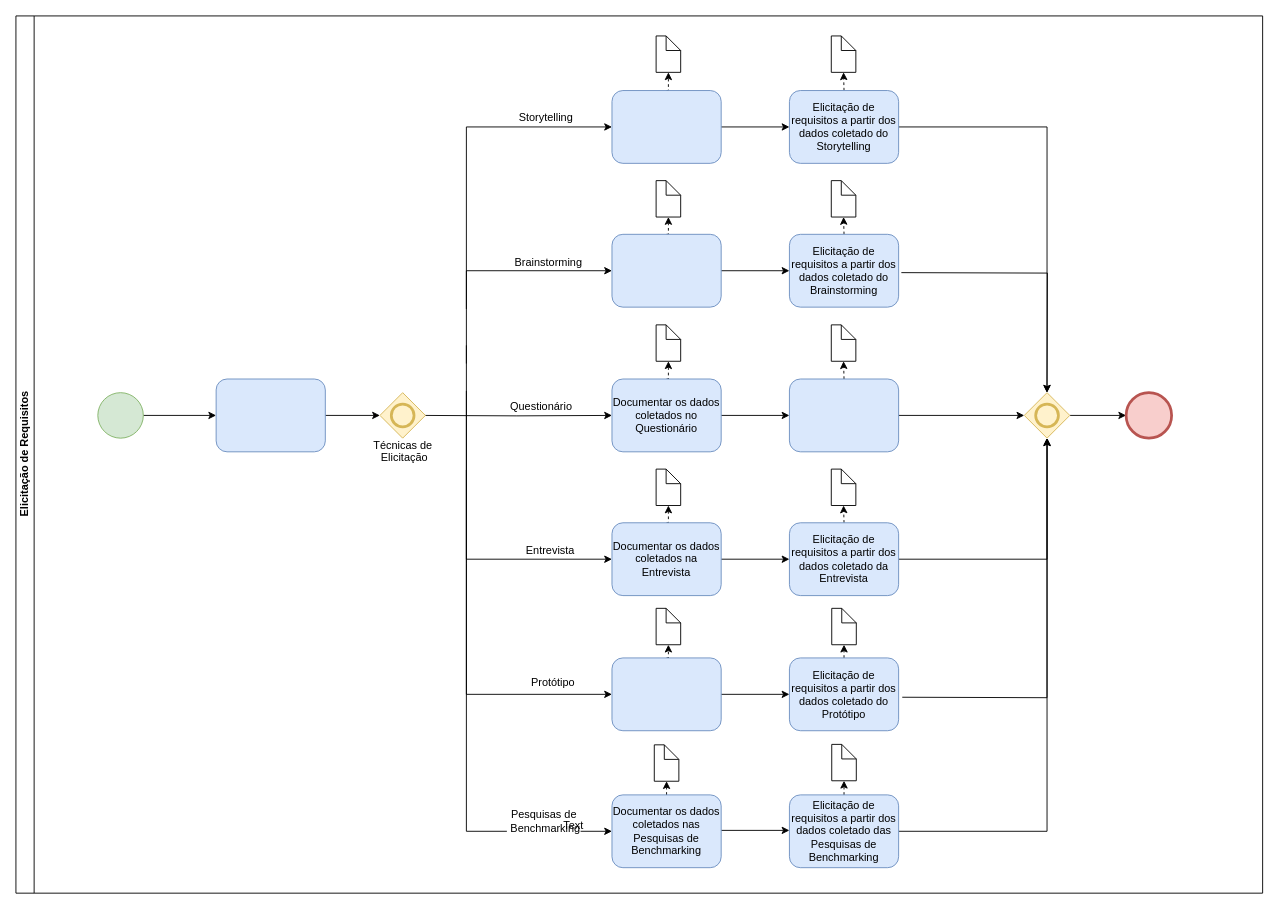
This 1279x909 diagram has some shape labels left out. The shapes that lost their labels are listed below. From the top down, each one's box as (x1, y1, x2, y2) in pixels, then its label:
(611, 90, 721, 163): Documentar os dados coletados no Storytelling
(611, 233, 721, 307): Documentar os dados coletados no Brainstorming
(215, 378, 325, 452): Separação de atividades para a equipe
(789, 378, 899, 452): Elicitação de requisitos a partir dos dados coletado do Questionário
(611, 657, 721, 731): Documentar os dados coletados no Protótipo
